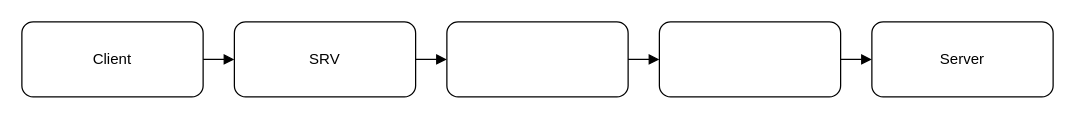
The diagram is 1075 pixels wide and 119 high, and some of its shapes have lost their labels. Here are the shapes that lost their labels. From the top down, the centre of each, then its label:
the point at 537,59: Cache
the point at 749,59: TLS
